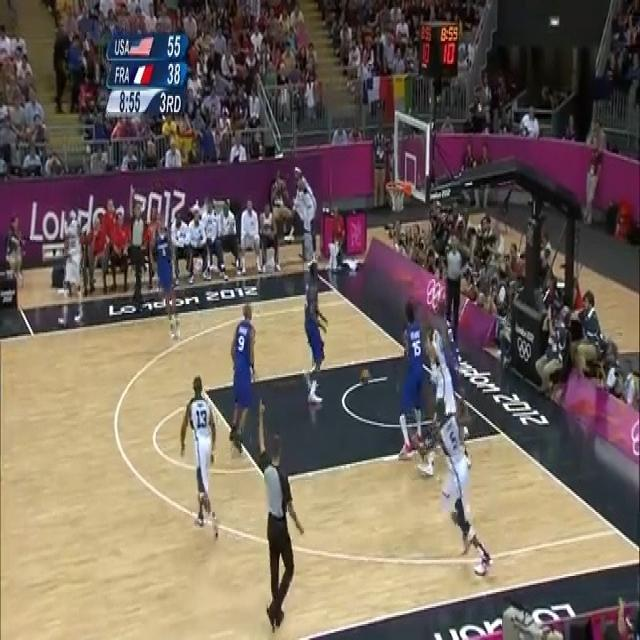basketball: (362, 364, 372, 392)
hoop: (386, 178, 407, 217)
person: (182, 374, 219, 532), (227, 304, 256, 452), (163, 136, 183, 168)
